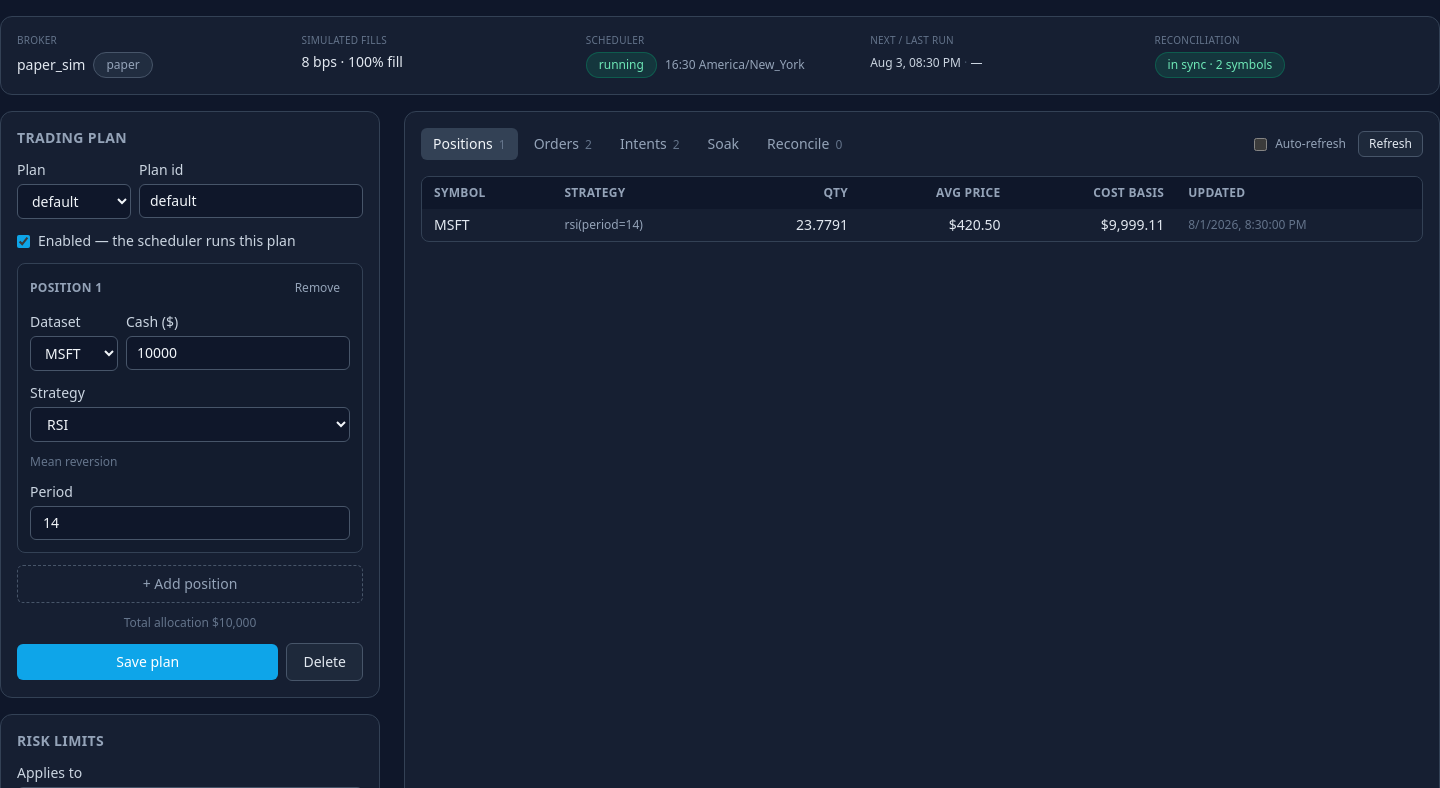
Test: TradingConsole › switches to the soak view
Expected: the text "paper_sim" is shown, [17, 55, 85, 75]
Click the button "Soak".
click(723, 144)  # box [696, 128, 751, 160]
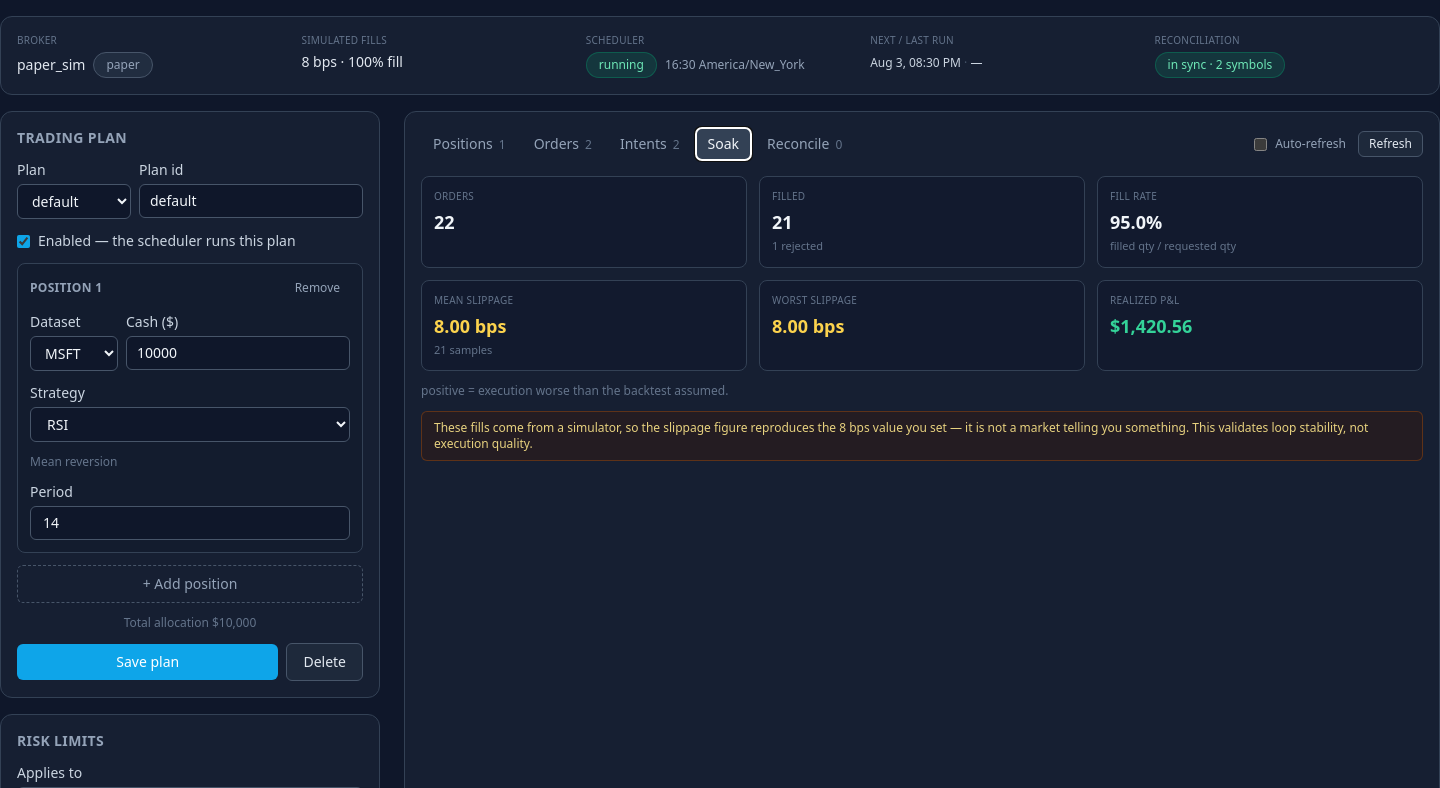
Expected: the text "95.0%" is shown, [1110, 210, 1162, 234]
